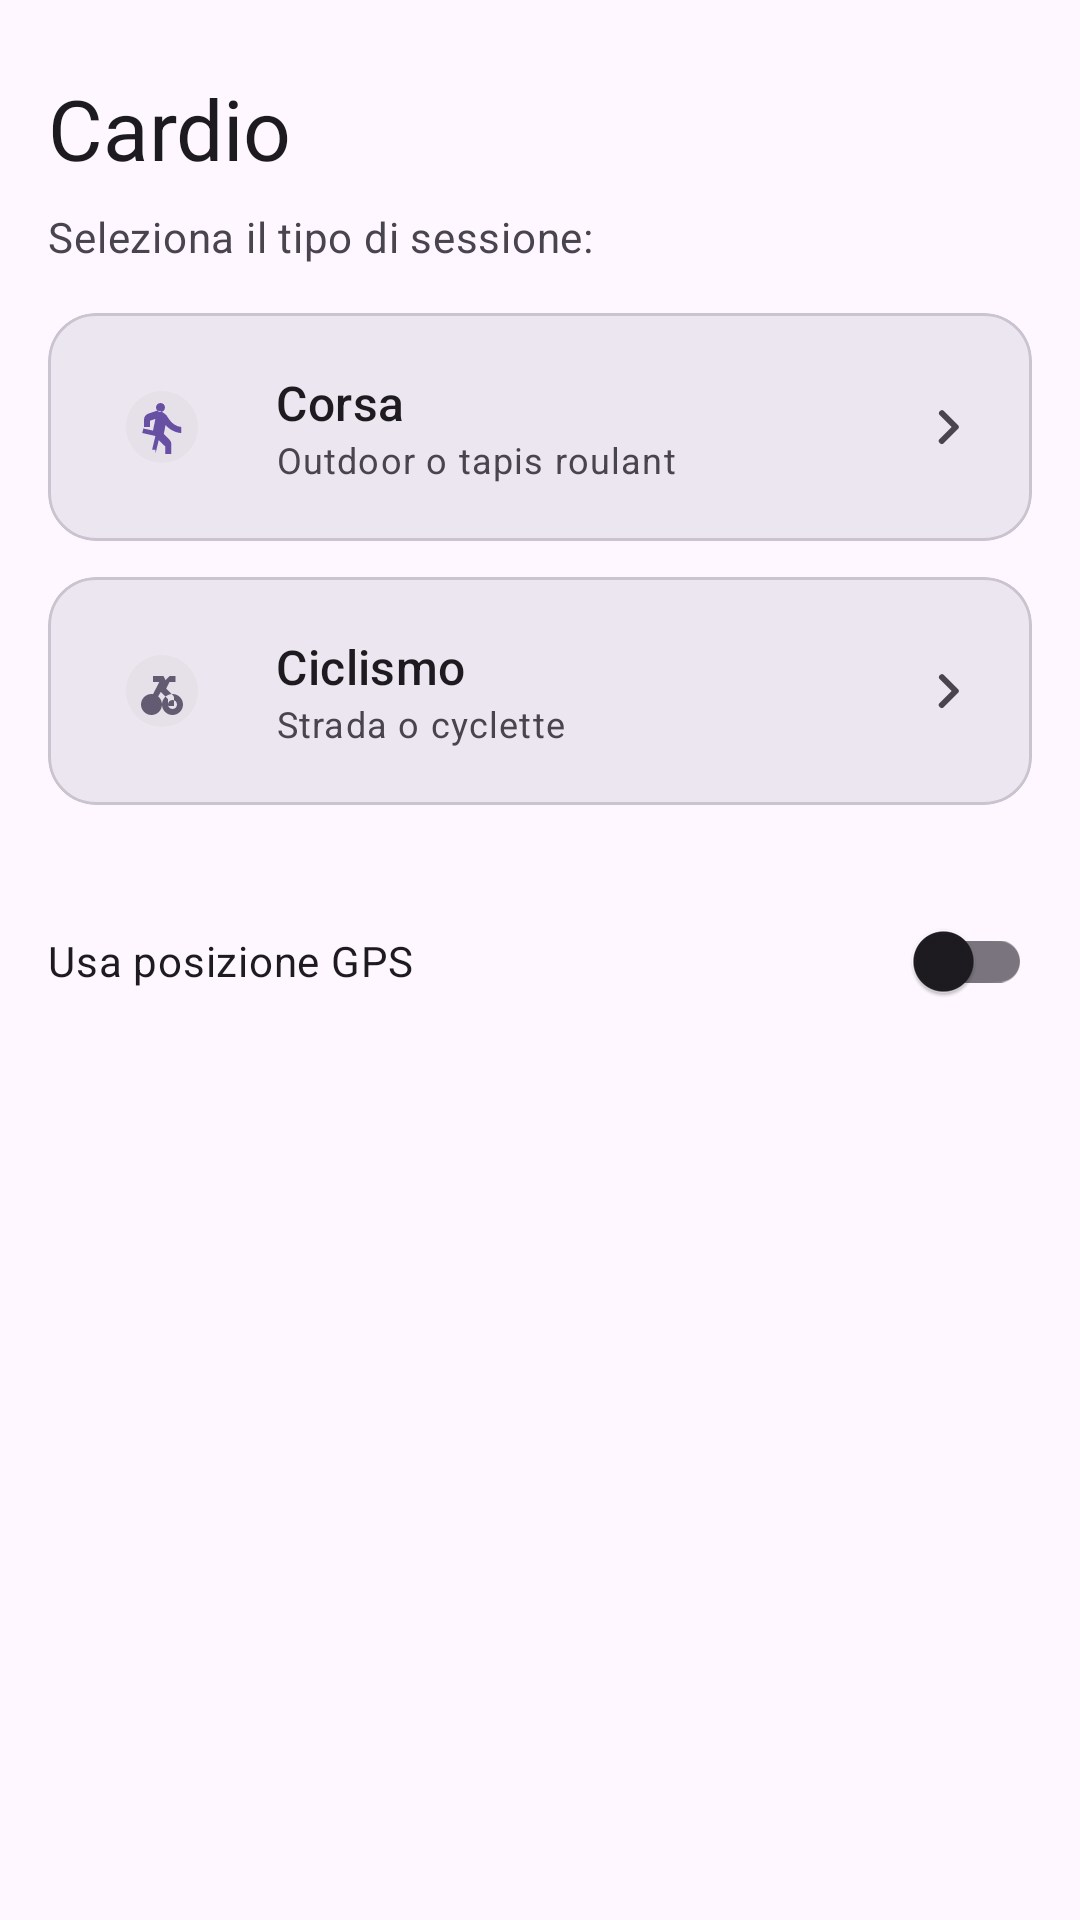

Where to tap for icons on this 1080x1920 app screen, as point (x, y):
chevron right: point (948, 427), point (948, 691)
